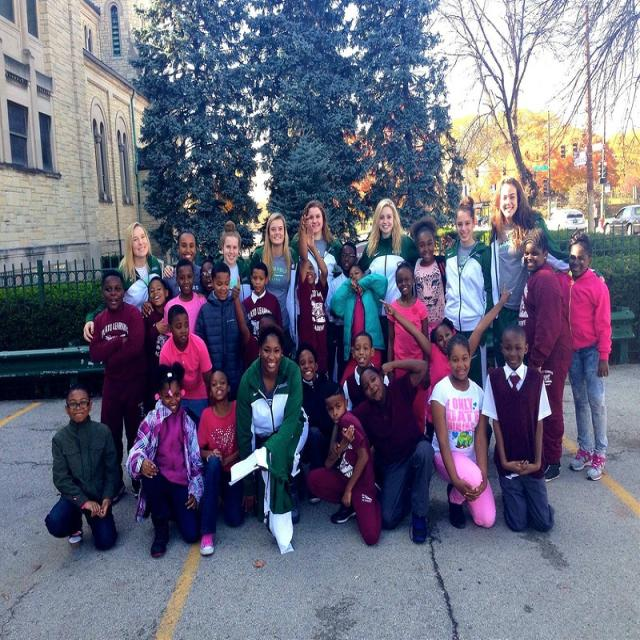body: (487, 176, 608, 370), (330, 353, 441, 553), (378, 284, 514, 446), (228, 318, 310, 556), (550, 228, 616, 482), (480, 320, 556, 534), (126, 359, 207, 559), (86, 267, 150, 511), (514, 226, 574, 484), (427, 328, 498, 536), (42, 383, 126, 552), (305, 381, 383, 546), (354, 195, 423, 376), (82, 220, 169, 341), (442, 193, 494, 392), (197, 367, 246, 559), (194, 262, 255, 404), (385, 259, 431, 436), (248, 211, 300, 362), (329, 262, 389, 388), (163, 220, 254, 303), (156, 302, 214, 431), (293, 217, 333, 382), (406, 214, 452, 342), (323, 237, 359, 387), (230, 274, 284, 372), (288, 198, 346, 287), (143, 274, 175, 413), (342, 329, 391, 414), (162, 256, 210, 342), (240, 259, 284, 346), (296, 347, 326, 469), (160, 228, 206, 303), (195, 257, 219, 302)
